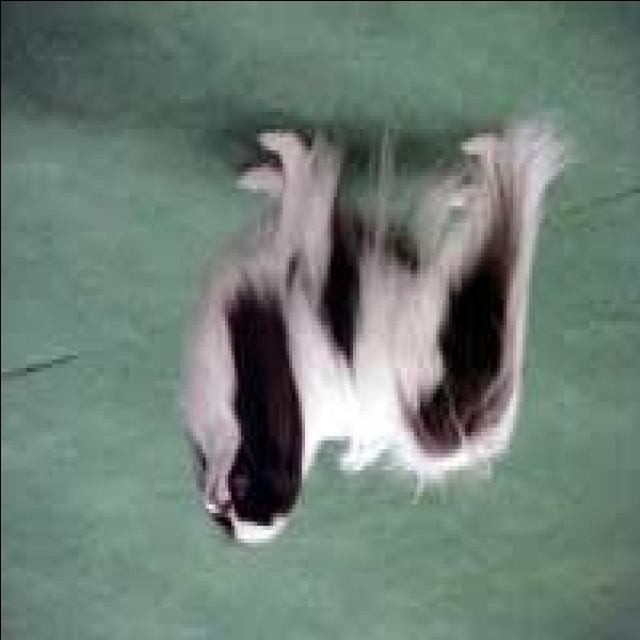husky: (182, 128, 564, 555)
